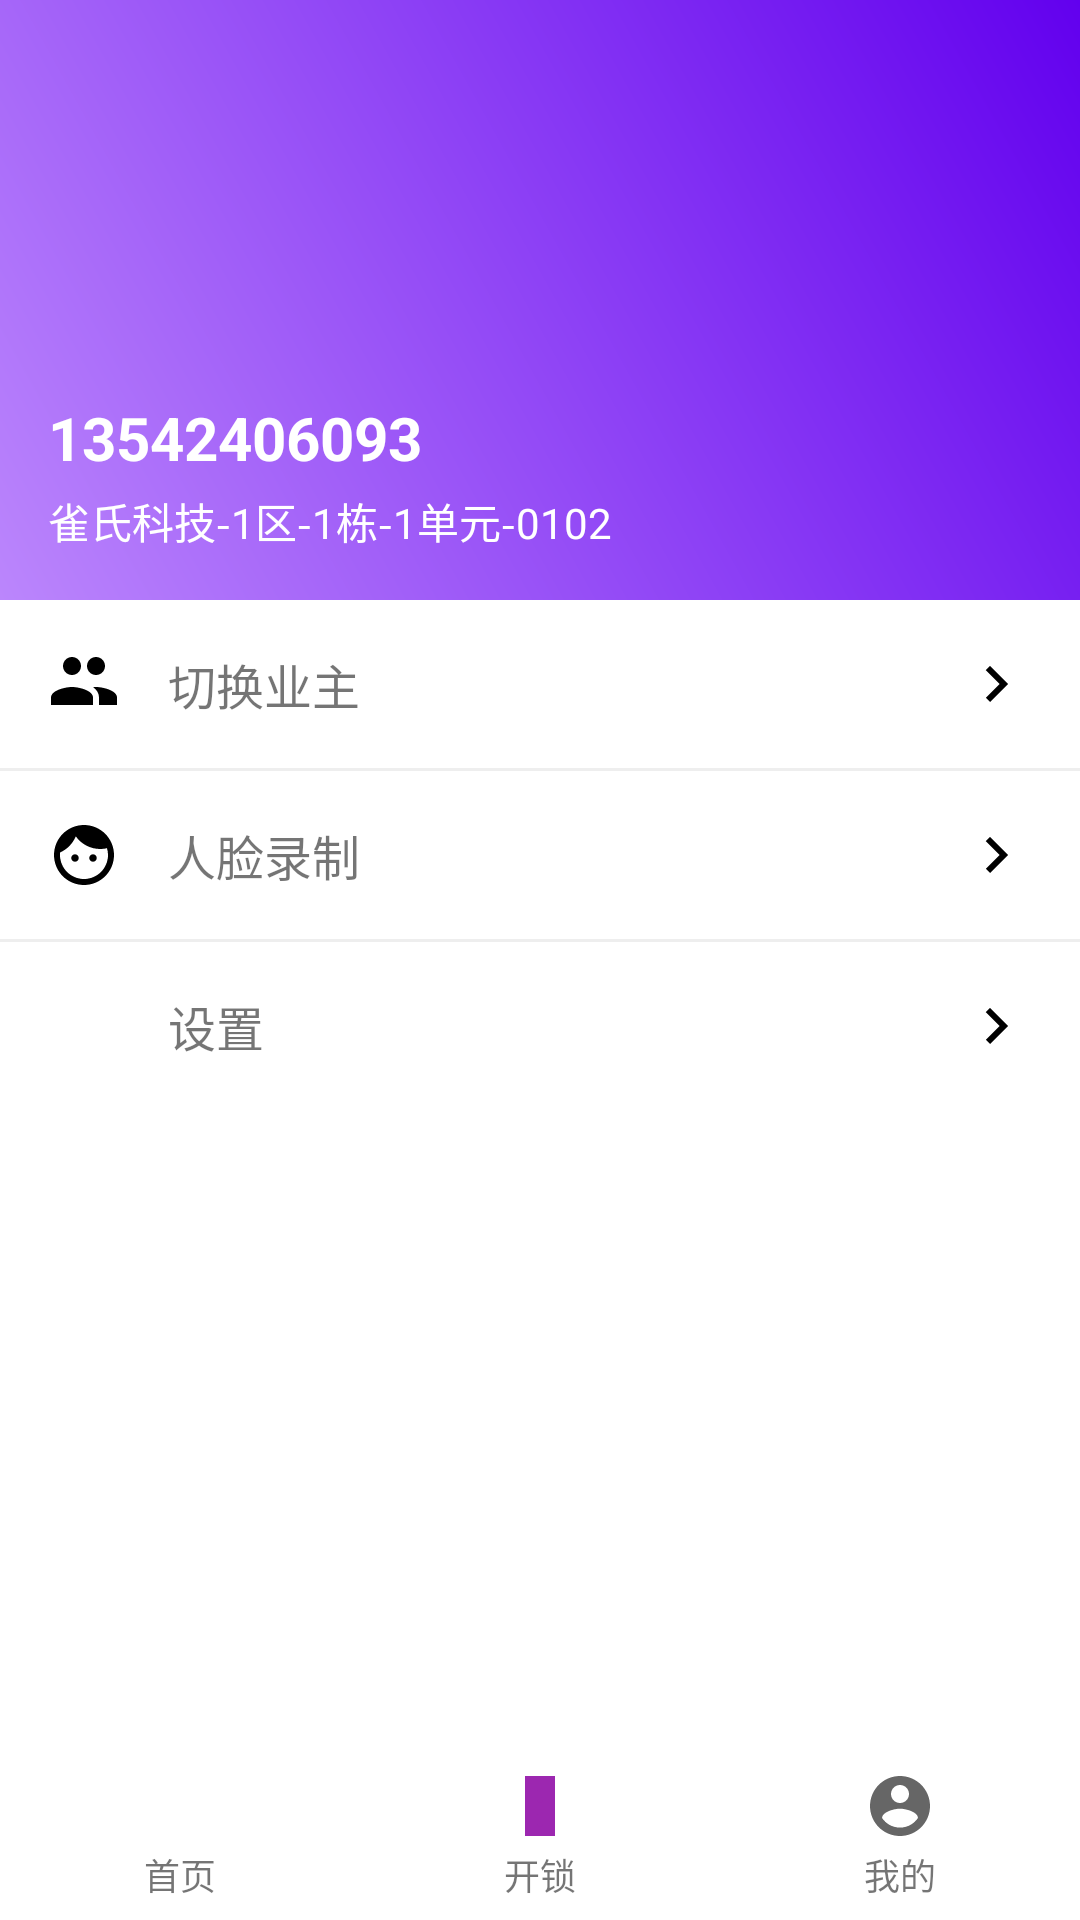

Locate icon controls on the screen. Image size 1080 × 1920, boxes as BBox(x1, y1, x2, y2).
arrow right: BBox(986, 666, 1008, 702), BBox(986, 837, 1008, 873), BBox(986, 1008, 1008, 1044)
face record: BBox(54, 825, 114, 885)
switch owner: BBox(51, 657, 117, 705)
